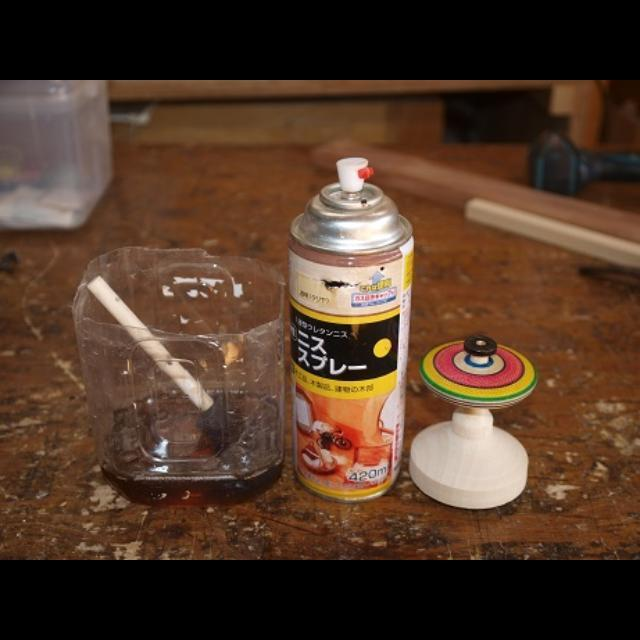chemical_spray_can: (290, 156, 415, 501)
